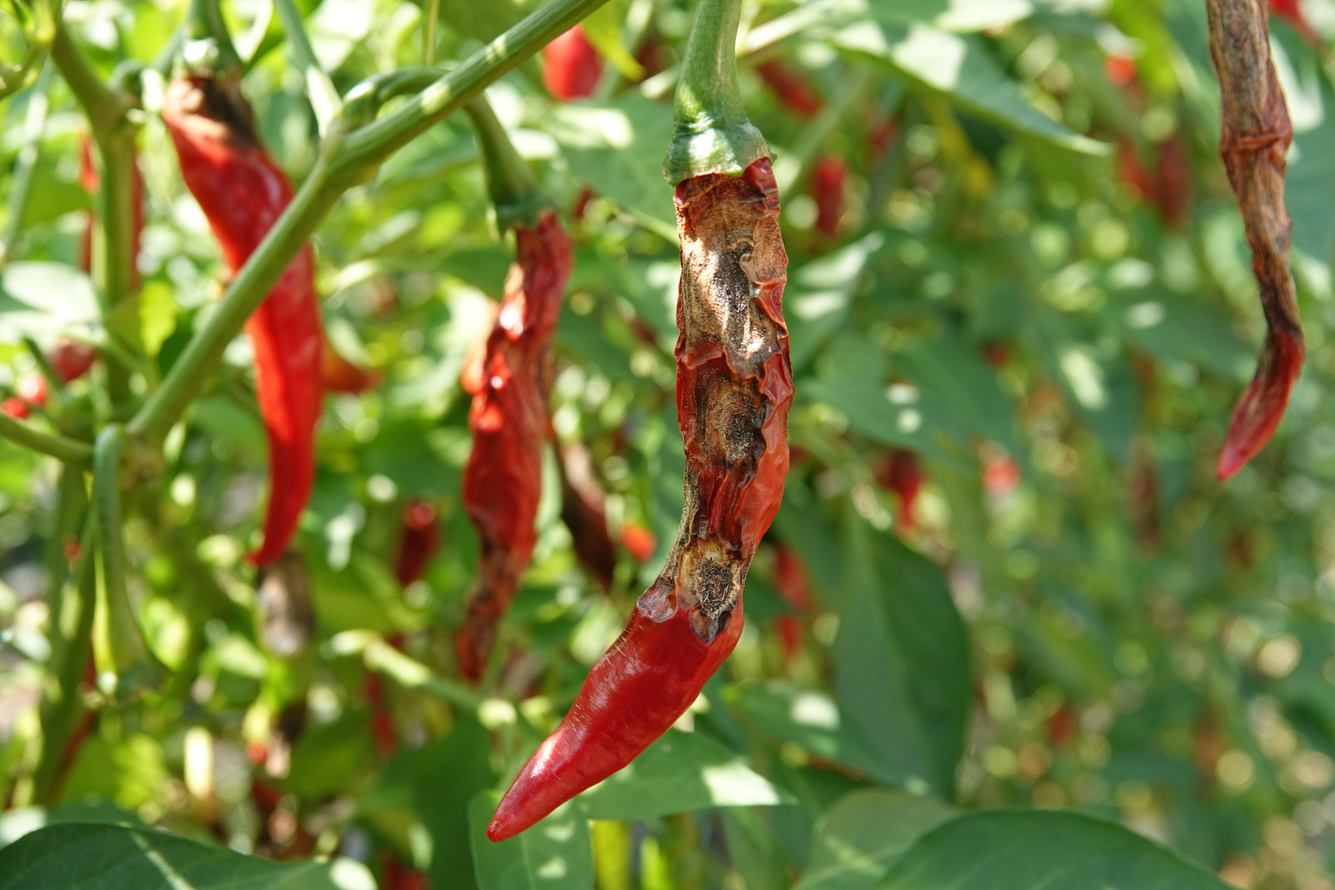Busuk Buah Antraknosa: (483, 115, 797, 846), (1198, 0, 1319, 492)
